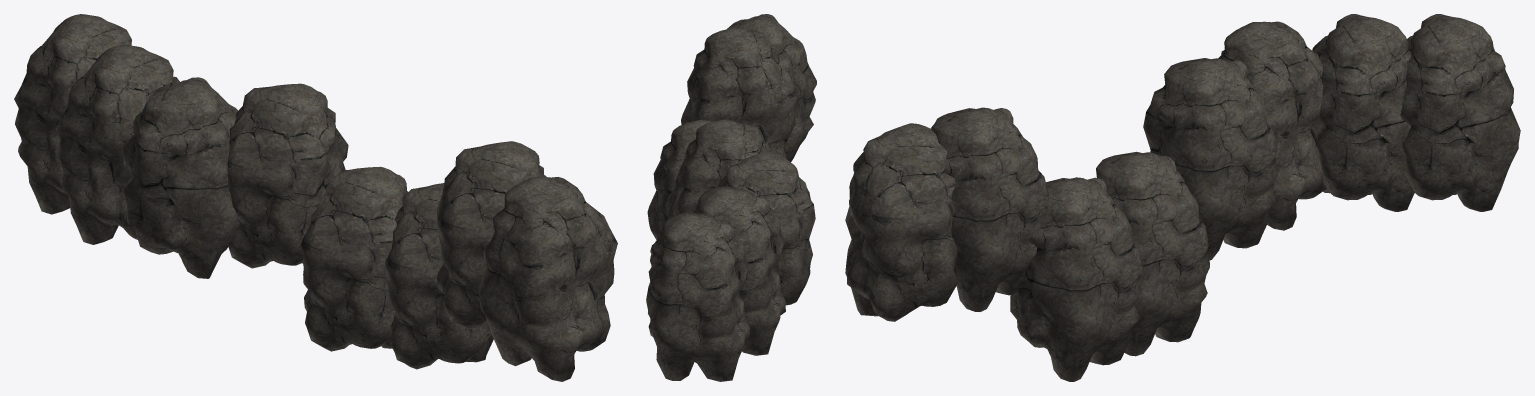
Rendered from TwinPeakRocksShape3.dae.
3 renders of one model, left to right at view 1: azimuth 30°, elevation 25°; view 2: azimuth 150°, elevation 25°; view 3: azimuth 270°, elevation 25°, orthographic. The views are drawn at different scales.
Visible parts, largest first — view 1: TwinPeakRocks3; view 2: TwinPeakRocks3; view 3: TwinPeakRocks3.
Part boxes in pixels (x1,y1,x2,y2): TwinPeakRocks3: [14, 14, 617, 381]; TwinPeakRocks3: [646, 14, 816, 381]; TwinPeakRocks3: [845, 14, 1520, 381].
Size of the model in its own units: 108 by 84.81 by 199.
